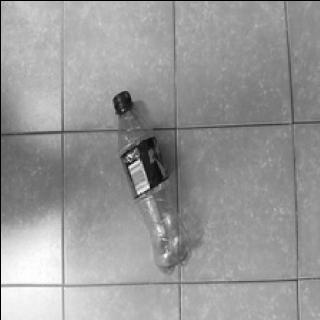plastic_bottles: (104, 85, 198, 277)
